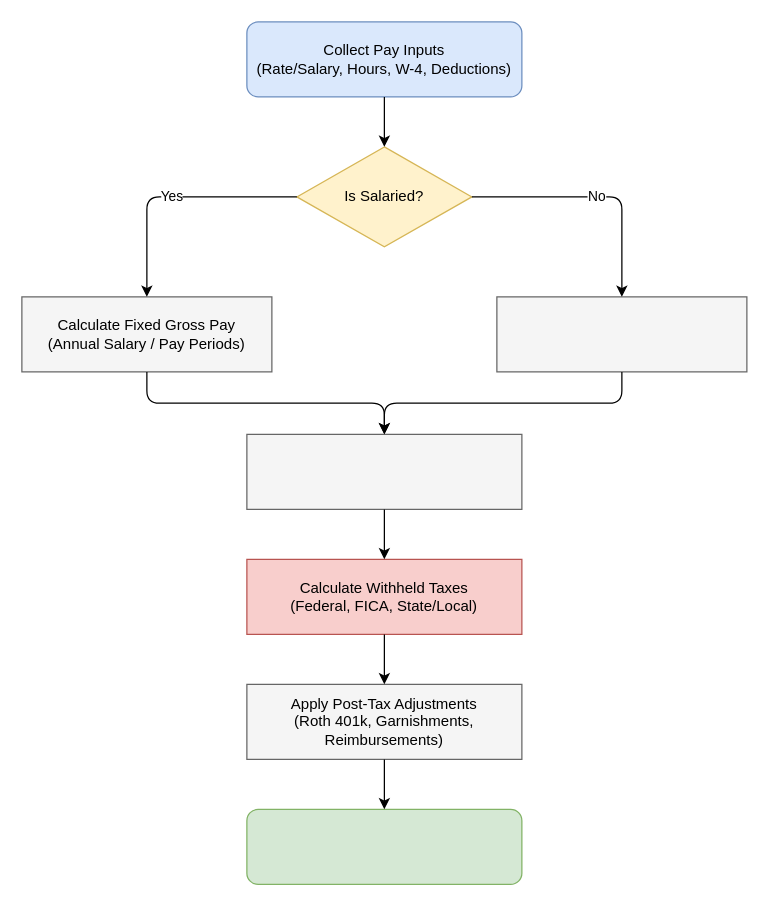
Image size: 769x906. Some labels were removed from this diagram. The shapes that lost their labels are listed below. From the top down, each one's box as (x1, y1, x2, y2) in pixels, then its label:
(496, 296, 747, 372): Calculate Hourly Gross Pay (Regular + Overtime Pay)
(246, 433, 522, 509): Deduct Pre-Tax Contributions (401k, Health Insurance, HSA/FSA)
(246, 808, 522, 884): Output Net Paycheck
